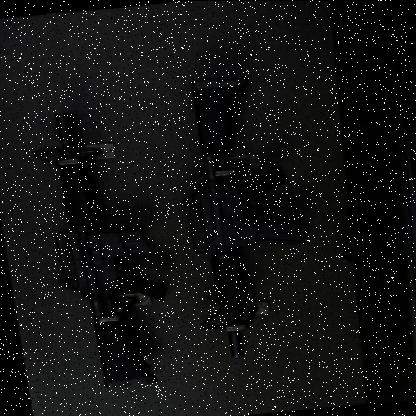rifle: (166, 66, 324, 360), (28, 102, 185, 396)
